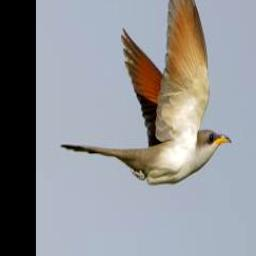Cuckoo: (60, 0, 231, 182)
